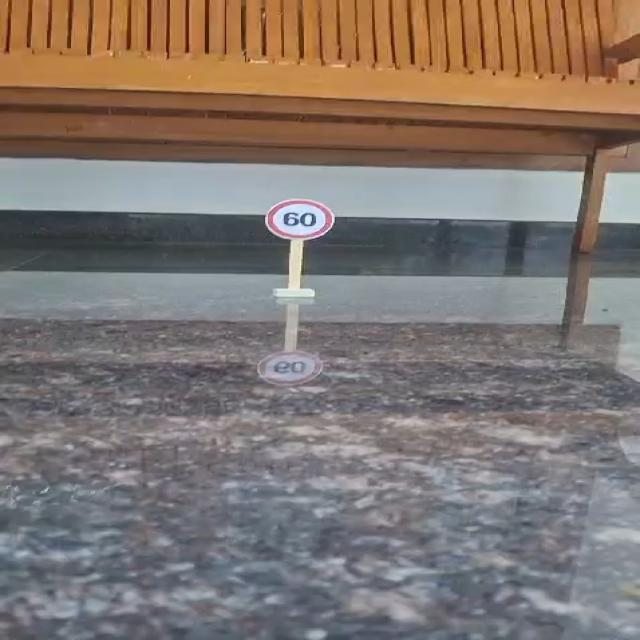Speed60: (262, 197, 338, 243)
